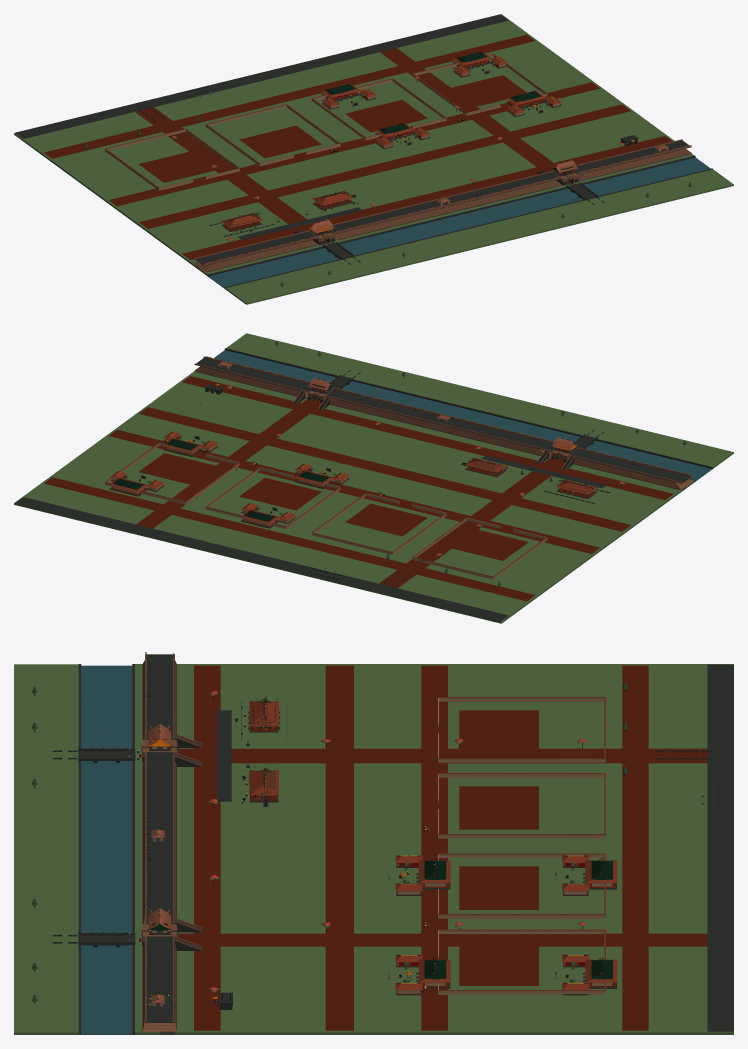
The model's file is T18_cua_the_nhon_than_cong_dong.glb.
3 renders of one model, top to bottom at view 1: azimuth 30°, elevation 25°; view 2: azimuth 150°, elevation 25°; view 3: azimuth 270°, elevation 25°, orthographic. The views are drawn at different scales.
Parts seen in each view (by area): view 1: T18_v01_Root_Terrain, v07_TASK04_HuuPhaoXuong_5Gian_Mo; view 2: T18_v01_Root_Terrain, v07_TASK04_HuuPhaoXuong_5Gian_Mo, VienThuongTu_Compound_ChinhDuong; view 3: T18_v01_Root_Terrain, BoLai_Compound_ChinhDuong, v07_TASK04_HuuPhaoXuong_5Gian_Mo, BoLe_Compound_ChinhDuong, VienThuongTu_Compound_ChinhDuong, BoHo_Compound_ChinhDuong.
Part boxes in pixels (box(x1,y1,x2,y2)): T18_v01_Root_Terrain: box(14, 14, 733, 304); v07_TASK04_HuuPhaoXuong_5Gian_Mo: box(221, 213, 262, 231); T18_v01_Root_Terrain: box(14, 333, 733, 623); v07_TASK04_HuuPhaoXuong_5Gian_Mo: box(556, 480, 597, 498); VienThuongTu_Compound_ChinhDuong: box(163, 438, 202, 456); T18_v01_Root_Terrain: box(14, 652, 733, 1034); BoLai_Compound_ChinhDuong: box(416, 857, 450, 889); v07_TASK04_HuuPhaoXuong_5Gian_Mo: box(248, 698, 279, 732); BoLe_Compound_ChinhDuong: box(583, 857, 617, 889); VienThuongTu_Compound_ChinhDuong: box(416, 957, 450, 988); BoHo_Compound_ChinhDuong: box(583, 957, 617, 988).
Bounding box in the file's own units: 460 × 18.03 × 380.
21 materials, 7 textured.
